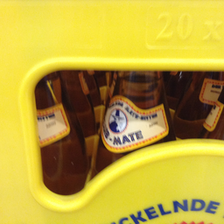soda: (91, 70, 177, 179), (36, 70, 88, 194)
